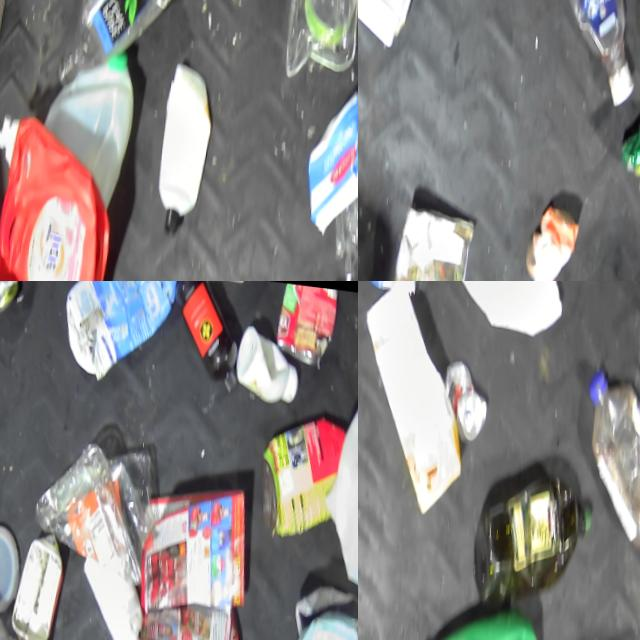can: (259, 401, 345, 533), (528, 188, 584, 281), (275, 281, 337, 362), (444, 348, 496, 435), (622, 90, 640, 168), (0, 281, 26, 317)
milk_jug: (43, 42, 137, 204), (322, 375, 358, 590), (452, 281, 571, 330)
non_white_jug: (0, 109, 117, 281), (474, 450, 600, 608), (60, 281, 177, 382), (397, 585, 550, 640)
plastic_bottle: (56, 0, 176, 93), (582, 353, 640, 544), (546, 0, 640, 97)
